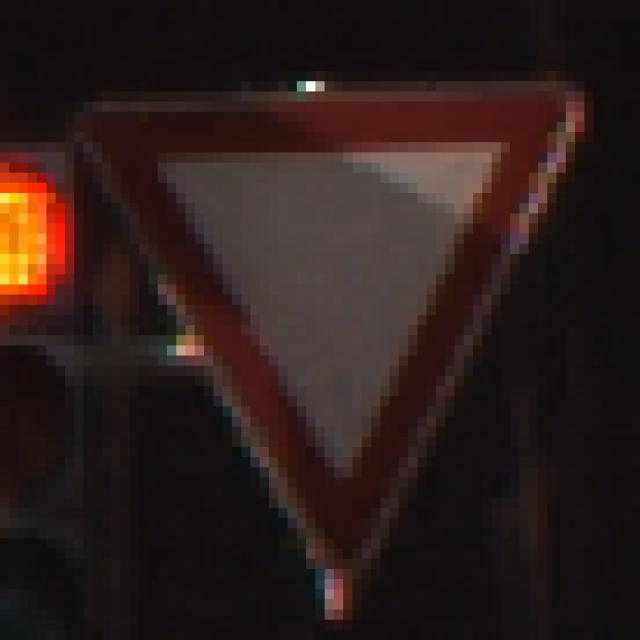Give Way: (57, 62, 585, 590)
